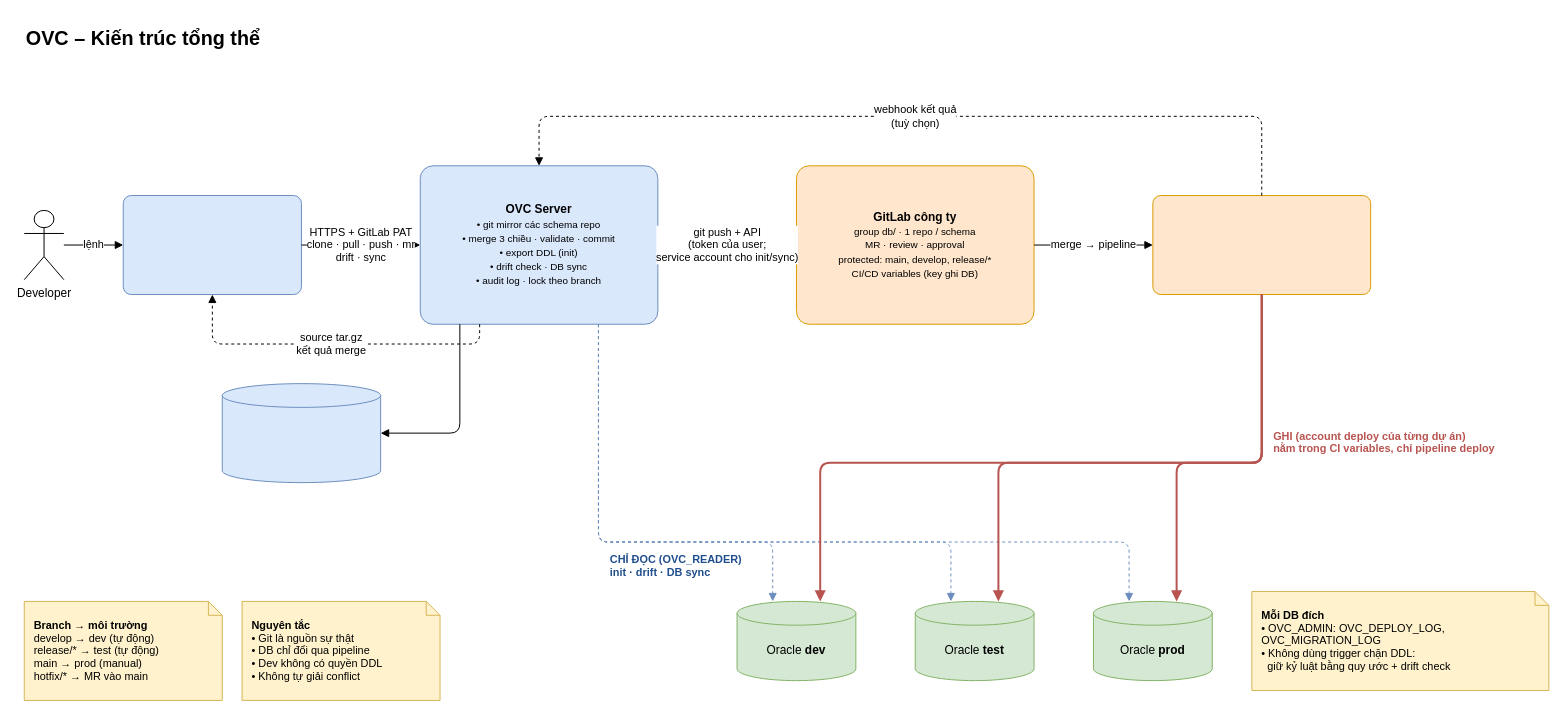
The diagram is 1566 pixels wide and 718 high, and some of its shapes have lost their labels. Each missing label, with the box of its shape:
GitLab Runner ovc deploy --env <env> giữ key ghi DB (masked + protected): (1152, 195, 1371, 295)
Metadata DB (PostgreSQL) schema_repo, job, audit_log, drift_report, sync_run: (221, 383, 381, 483)
OVC CLI (ovc) 1 binary · không cần Git / Oracle Client .ovc/state.json, base/: (122, 195, 301, 295)
